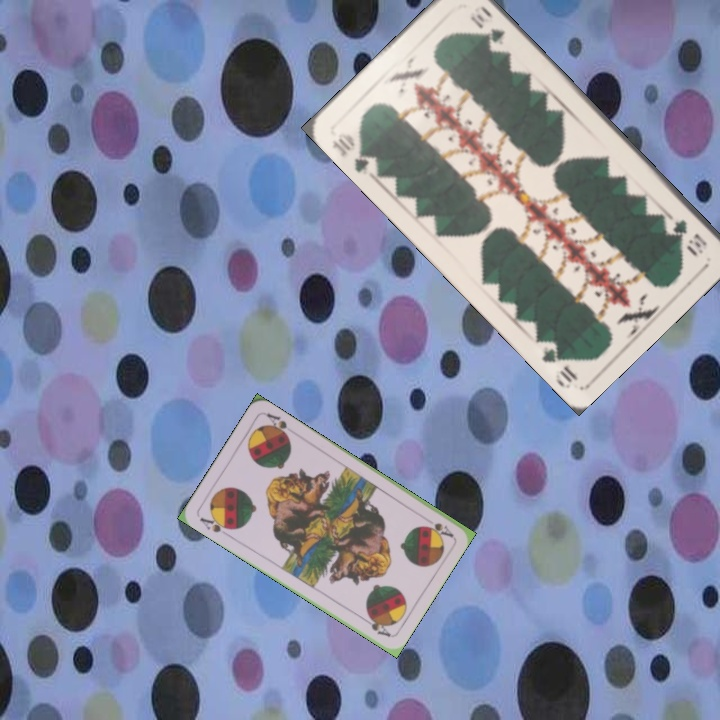G10: (328, 128, 381, 178), (668, 215, 710, 258)
SA: (196, 512, 235, 539), (422, 518, 456, 540)
